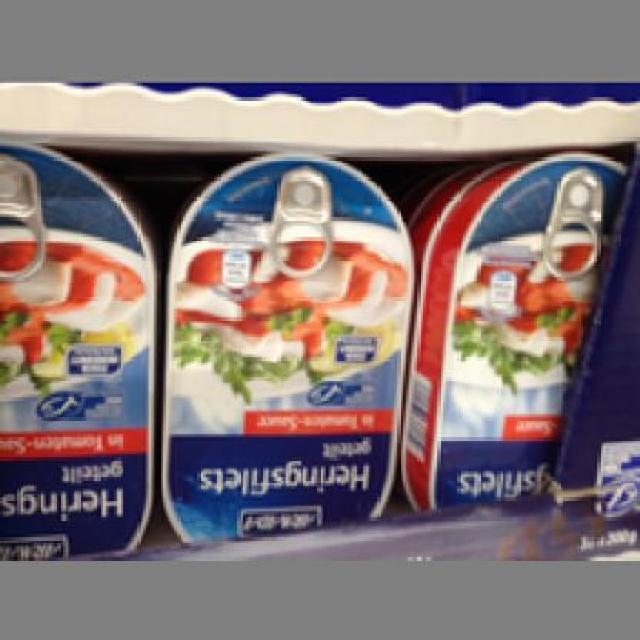Fish: (156, 151, 412, 544), (408, 152, 624, 518), (0, 136, 152, 549)
